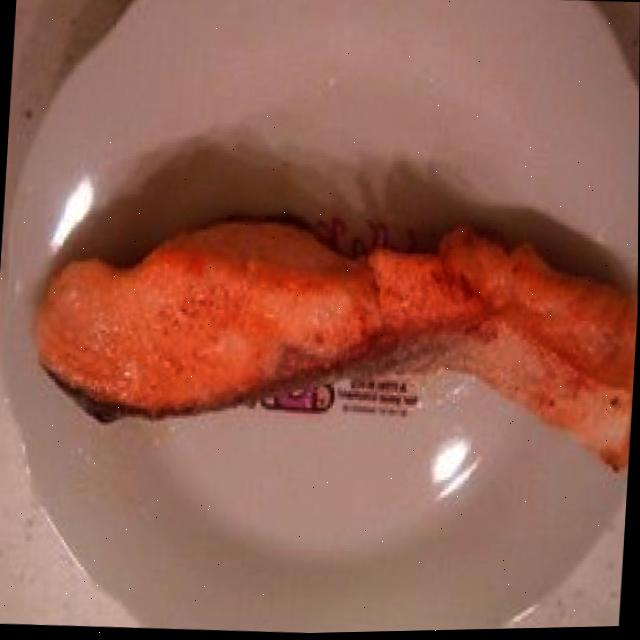熟制海鲜: (30, 188, 639, 472)
